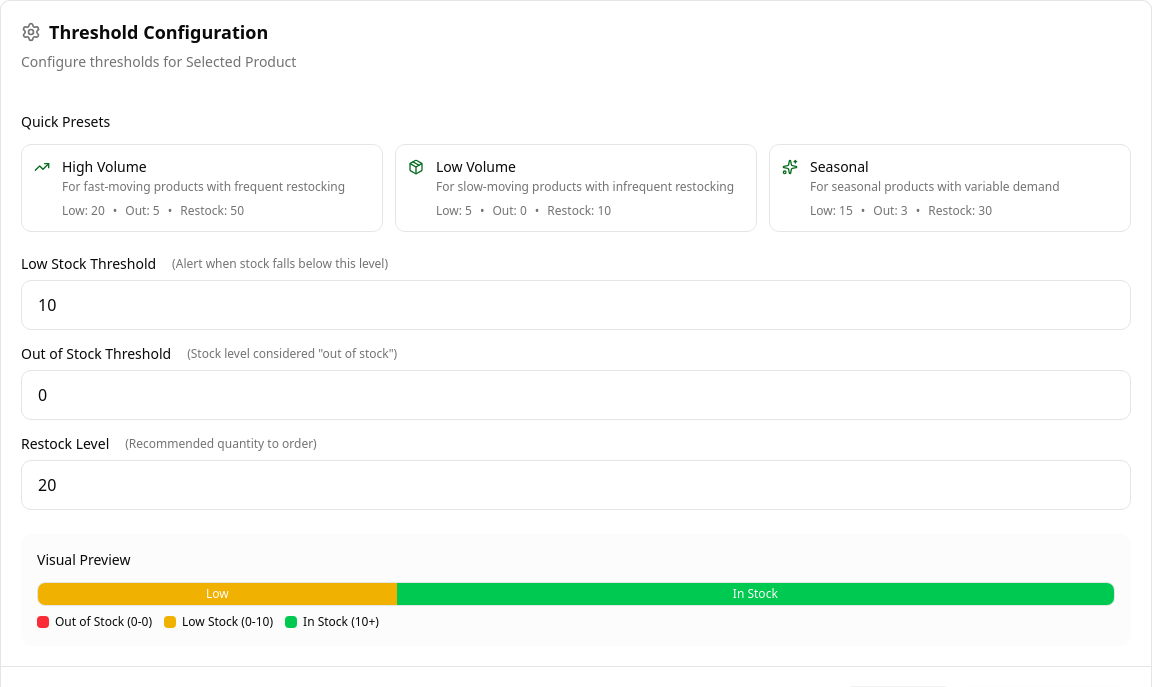
ThresholdSettings Component › Preset Templates › should apply Low Volume preset
Click the button "Low Volume" at {"x": 576, "y": 188}, box [395,144,757,232]
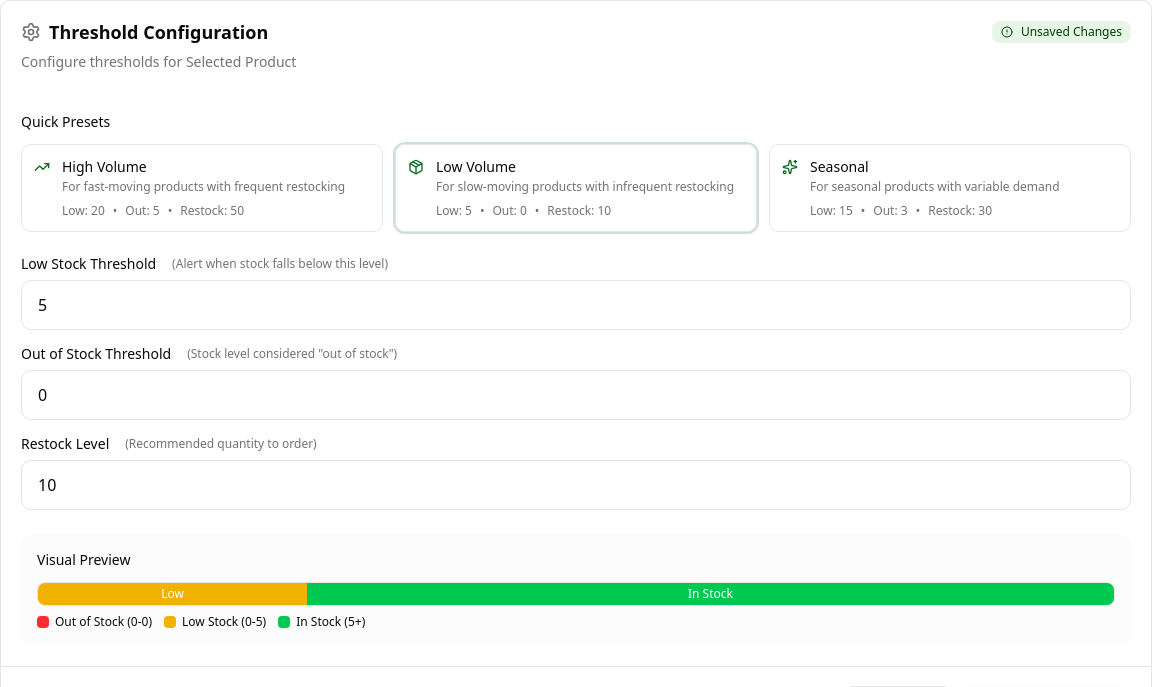
Expected: the number field labelled "Out of Stock Threshold" holds "0", [21,370,1131,420]
Now the number field labelled "Low Stock Threshold" holds "5", box [21,280,1131,330]
Now the number field labelled "Restock Level (Recommended quantity to order)" holds "10", box [21,460,1131,510]
